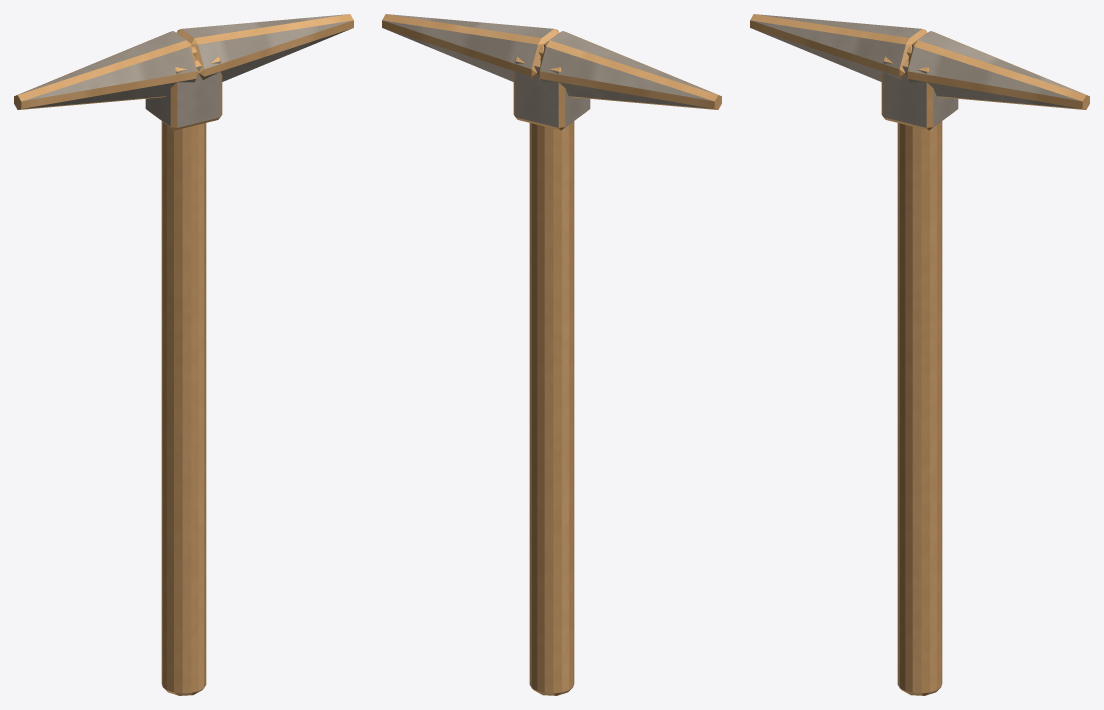
The model's file is sm_tool_pickaxe_upgraded.glb.
The picture shows the model from 3 angles, left to right: view 1: azimuth 30°, elevation 25°; view 2: azimuth 150°, elevation 25°; view 3: azimuth 330°, elevation 25°; orthographic projection.
Visible parts, largest first — view 1: sm_tool_pickaxe_upgraded; view 2: sm_tool_pickaxe_upgraded; view 3: sm_tool_pickaxe_upgraded.
Boxes of the visible parts, x1,y1,x2,y2 form: sm_tool_pickaxe_upgraded: [14, 14, 353, 695]; sm_tool_pickaxe_upgraded: [382, 14, 721, 695]; sm_tool_pickaxe_upgraded: [750, 14, 1089, 695].
Size of the model in its own units: 0.3224 by 0.6055 by 0.0549.
1 material, 1 textured.
